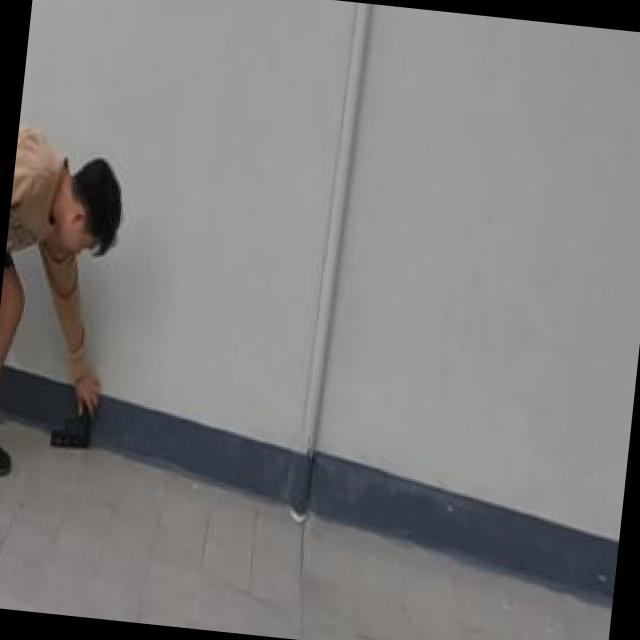Guns: (44, 392, 97, 458)
